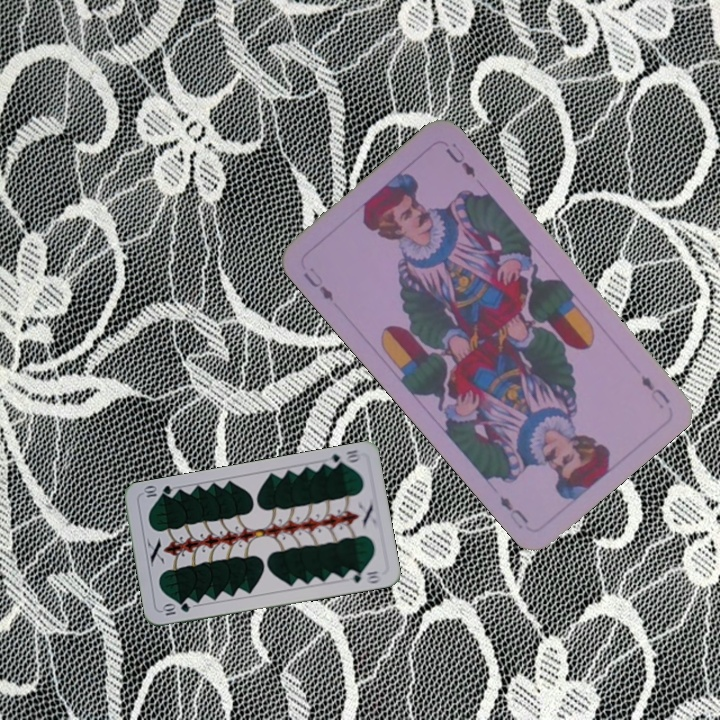EU: (299, 263, 337, 304), (636, 371, 673, 412)
G10: (322, 446, 363, 470), (158, 599, 193, 618)
